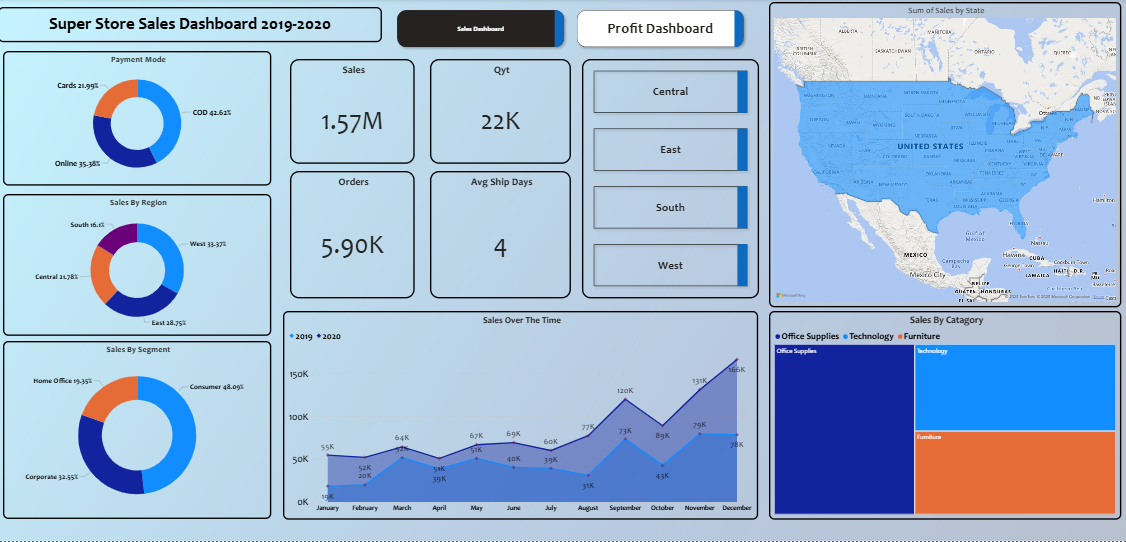

The page's visual inventory and layout, read from the dashboard file:
{"tool":"powerbi","page":{"name":"Sales Dashboard","canvas":[2500,1200],"ordinal":0},"visuals":[{"type":"textbox","box":[0,17.5,850,77.5],"z":0},{"type":"advancedSlicerVisual","fields":{"Values":["Sheet1.Region"]},"box":[1292,132,392,530],"z":1000},{"type":"donutChart","title":" Payment Mode","fields":{"Category":["Sheet1.Payment Mode"],"Y":["Sum(Sheet1.Sales)"]},"box":[12,116,594,298],"z":2000},{"type":"donutChart","title":"Sales By Region","fields":{"Y":["Sum(Sheet1.Sales)"],"Category":["Sheet1.Region"]},"box":[12,432,594,314],"z":3000},{"type":"donutChart","title":"Sales By Segment","fields":{"Y":["Sum(Sheet1.Sales)"],"Category":["Sheet1.Segment"]},"box":[12,758,594,394],"z":4000},{"type":"card","title":"Orders","fields":{"Values":["CountNonNull(Sheet1.Order ID)"]},"box":[646,380,276,282],"z":5000},{"type":"card","title":"Sales","fields":{"Values":["Sum(Sheet1.Sales)"]},"box":[646,132,276,232],"z":6000},{"type":"card","title":"Qyt","fields":{"Values":["Sum(Sheet1.Quantity)"]},"box":[956,132,312,232],"z":7000},{"type":"card","title":"Avg Ship Days","fields":{"Values":["Avg(Sheet1.Avg Day To Delivary)"]},"box":[956,380,312,282],"z":8000},{"type":"areaChart","title":"Sales Over The Time","fields":{"Category":["Sheet1.Order Date.Variation.Date Hierarchy.Month"],"Y":["Sum(Sheet1.Sales)"],"Series":["Sheet1.Order Date.Variation.Date Hierarchy.Year"]},"box":[632,690,1052,462],"z":9000},{"type":"filledMap","fields":{"Category":["Sheet1.State"]},"box":[1706,6,780,676],"z":10000},{"type":"treemap","title":"Sales By Catagory","fields":{"Group":["Sheet1.Category"],"Values":["Sum(Sheet1.Sales)"]},"box":[1706,690,780,462],"z":11000},{"type":"pageNavigator","box":[874,16,786,100],"z":12000}]}

Visuals, with their boxes in screenshot pixels (x1, y1, x2, y2), scaled from the page's 2500x1200 canvas onto the 1126x542 screenshot:
textbox: <bbox>0, 8, 383, 43</bbox>
advancedSlicerVisual - Sheet1.Region: <bbox>582, 60, 758, 299</bbox>
" Payment Mode" donutChart: <bbox>5, 52, 273, 187</bbox>
"Sales By Region" donutChart: <bbox>5, 195, 273, 337</bbox>
"Sales By Segment" donutChart: <bbox>5, 342, 273, 520</bbox>
"Orders" card: <bbox>291, 172, 415, 299</bbox>
"Sales" card: <bbox>291, 60, 415, 164</bbox>
"Qyt" card: <bbox>431, 60, 571, 164</bbox>
"Avg Ship Days" card: <bbox>431, 172, 571, 299</bbox>
"Sales Over The Time" areaChart: <bbox>285, 312, 758, 520</bbox>
filledMap - Sheet1.State: <bbox>768, 3, 1120, 308</bbox>
"Sales By Catagory" treemap: <bbox>768, 312, 1120, 520</bbox>
pageNavigator: <bbox>394, 7, 748, 52</bbox>
